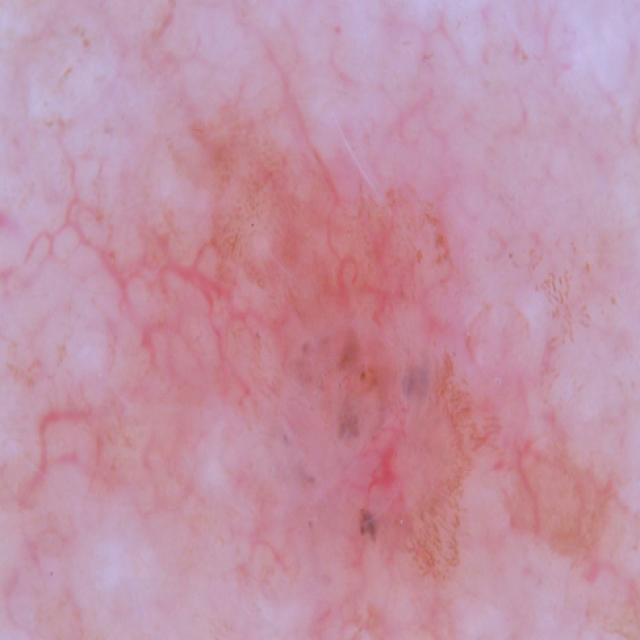Carcinoma: (205, 252, 514, 640)
